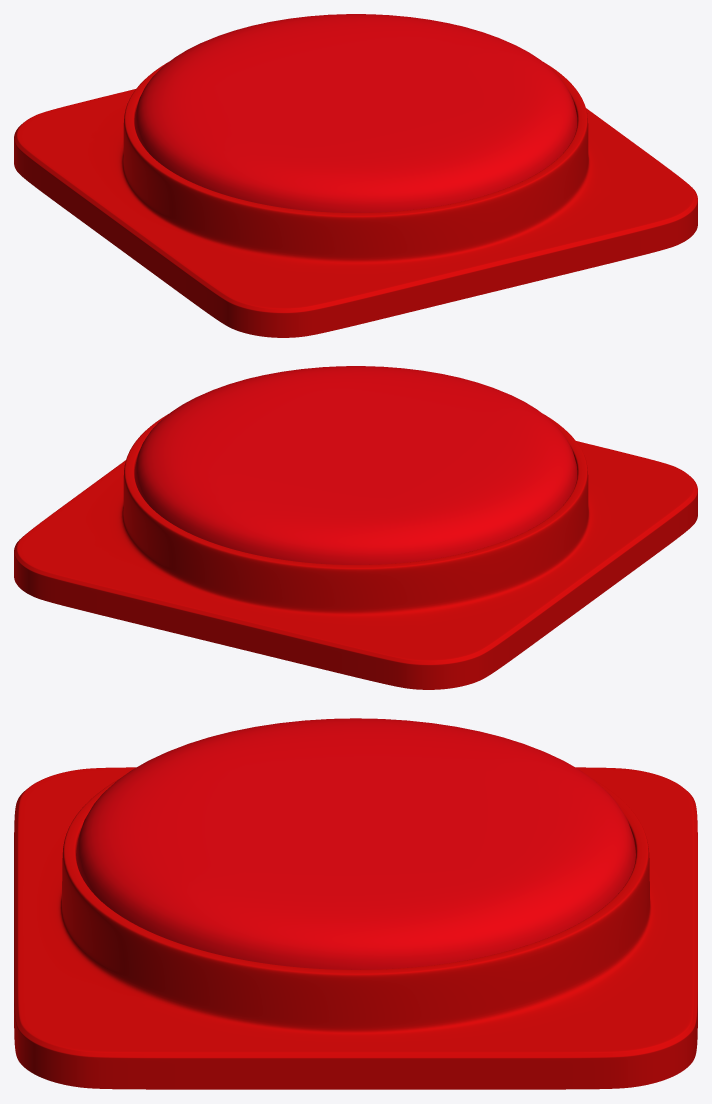
The model's file is Button.fbx.
3 views of the same model, one above another, from view 1: azimuth 30°, elevation 25°; view 2: azimuth 150°, elevation 25°; view 3: azimuth 270°, elevation 25° (orthographic). The views are drawn at different scales.
Visible parts, largest first — view 1: button_1, button2; view 2: button_1, button2; view 3: button_1, button2.
Boxes of the visible parts, x1,y1,x2,y2 form: button_1: (14,61,697,337); button2: (134,14,577,212); button_1: (14,413,697,689); button2: (134,366,577,564); button_1: (14,767,697,1089); button2: (76,718,635,969).
Size of the model in its own units: 2 by 0.4061 by 2.
